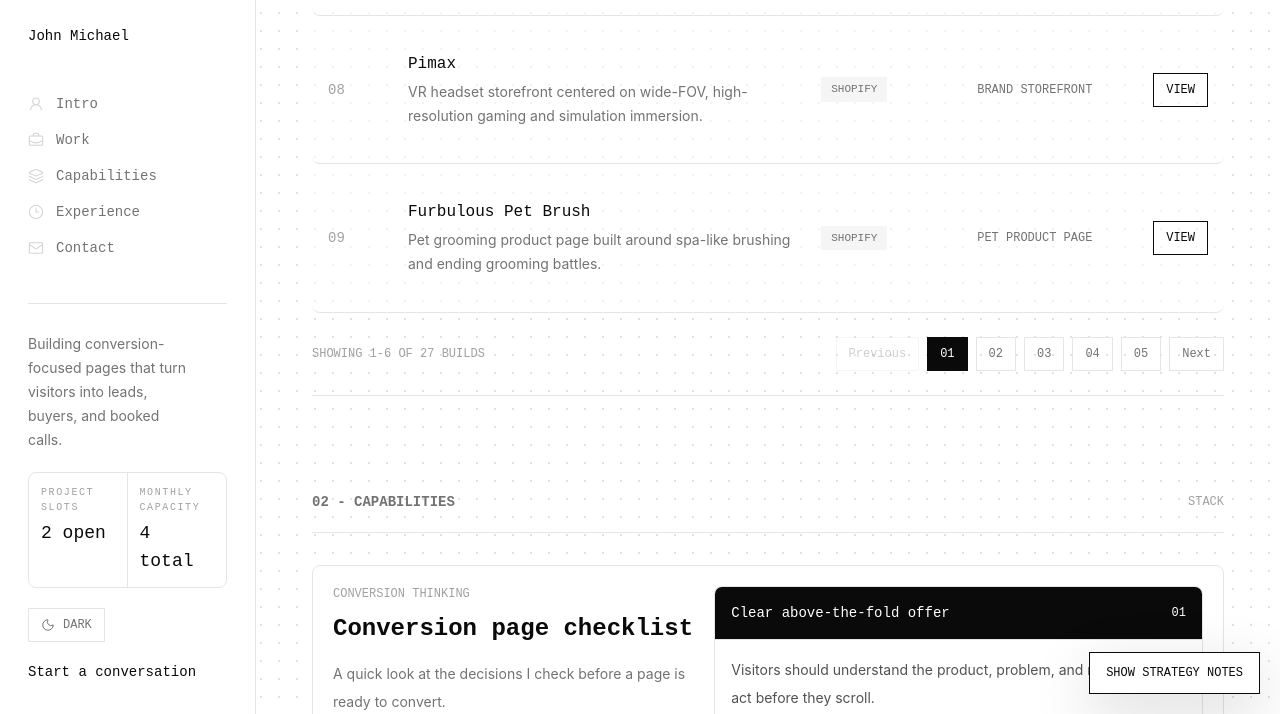
Test: Portfolio landing page › filters the compact archive and resets pagination
(page scrolled)
Click the button with aria-label "next archive page" at [1197, 354], box [1169, 337, 1224, 371]
(page scrolled)
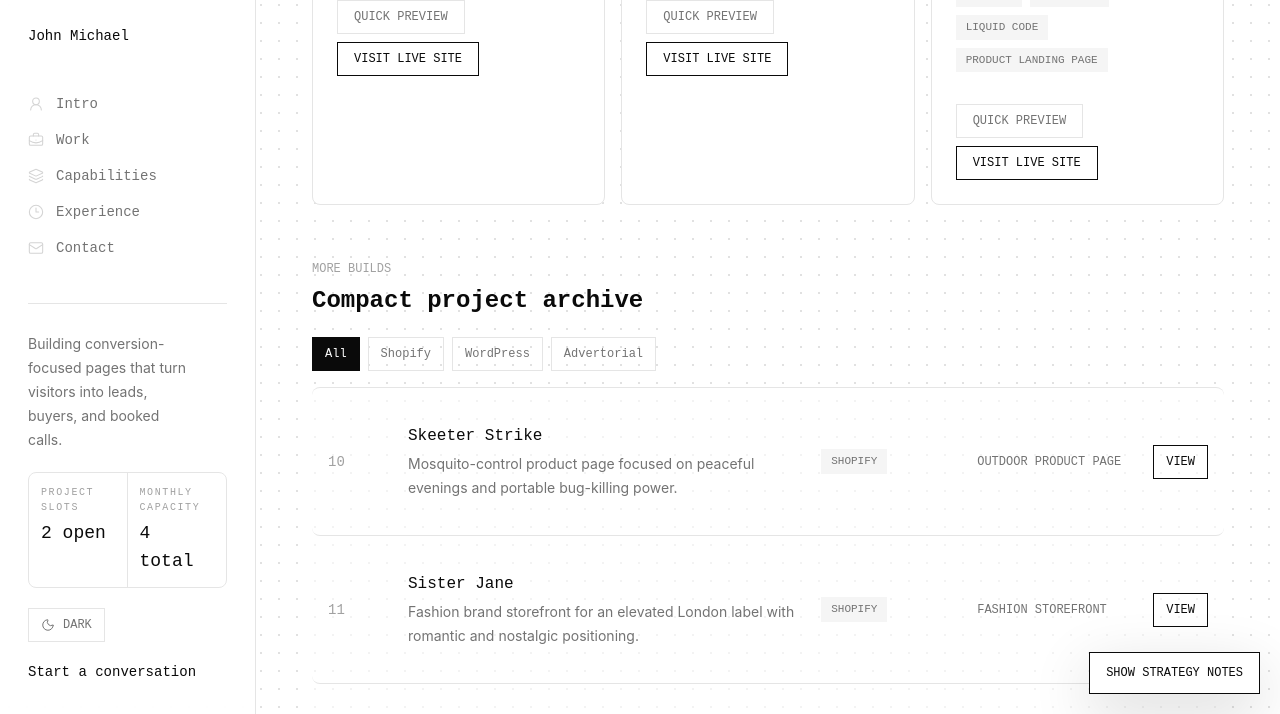
Click the button with aria-label "wordpress filter" at [497, 354], box [452, 337, 543, 371]
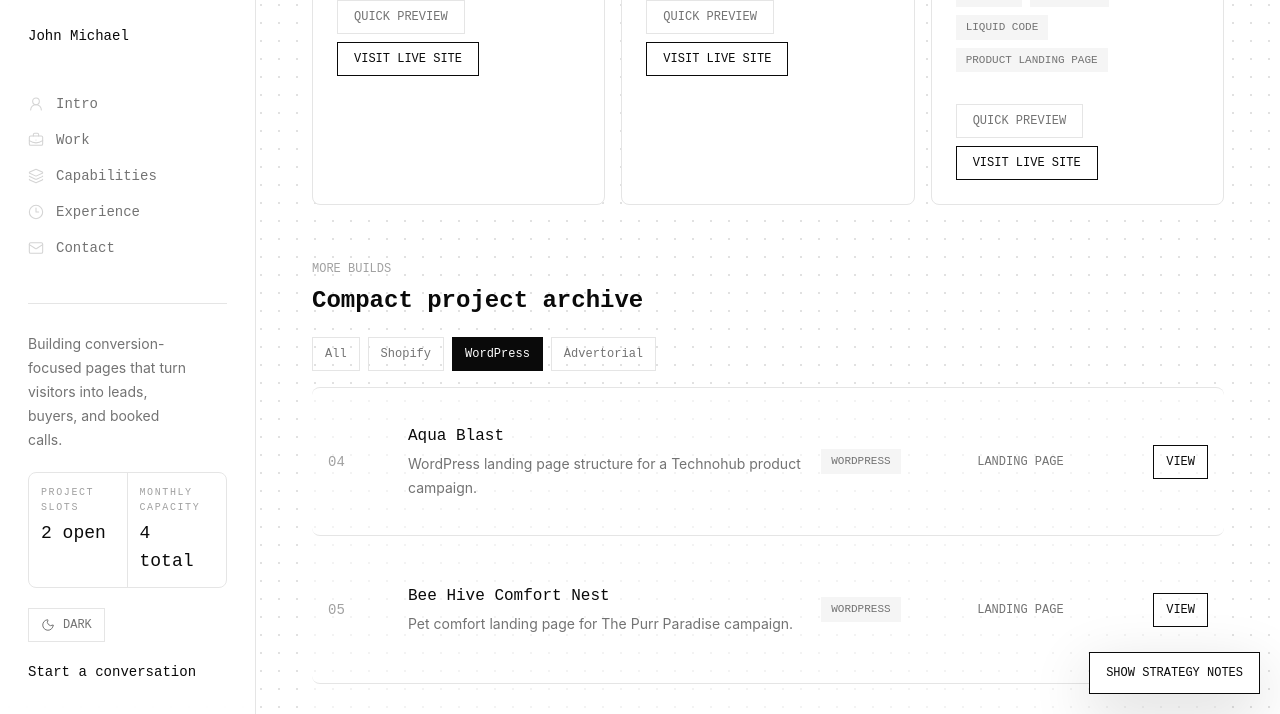
Result: the heading "Aqua Blast" is shown at [408, 427, 504, 445]
